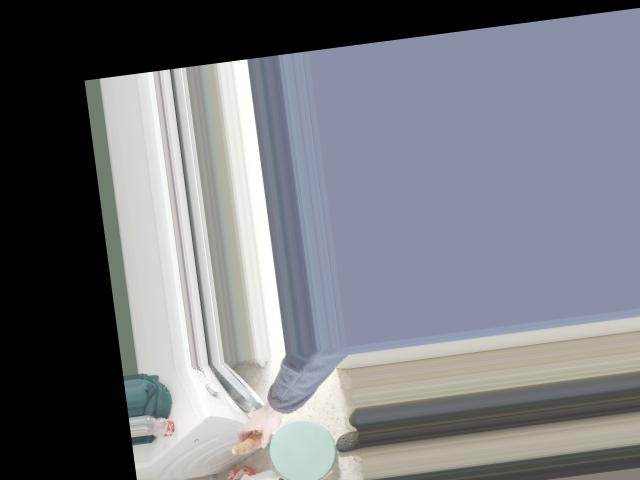sweet_potato: (229, 419, 284, 454)
